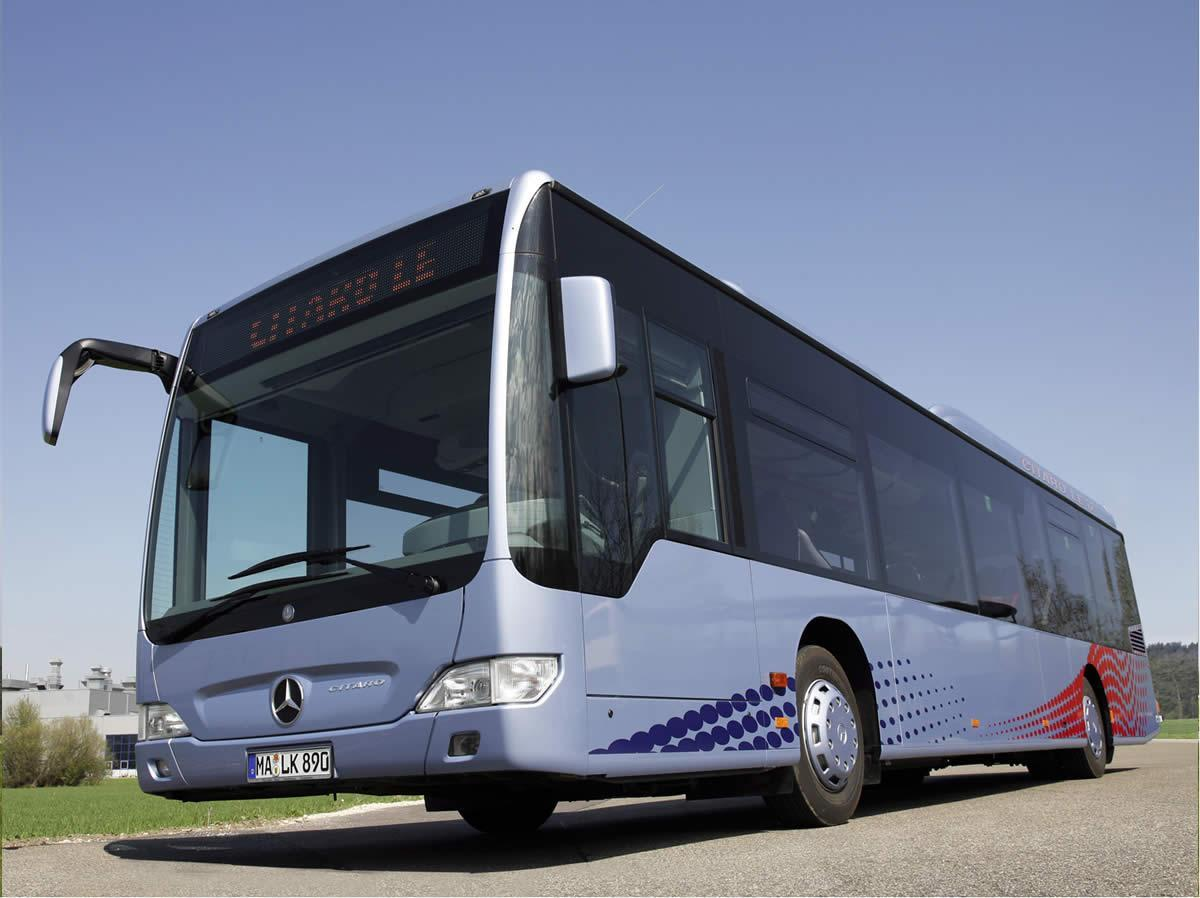Bus: (45, 176, 1161, 846)
